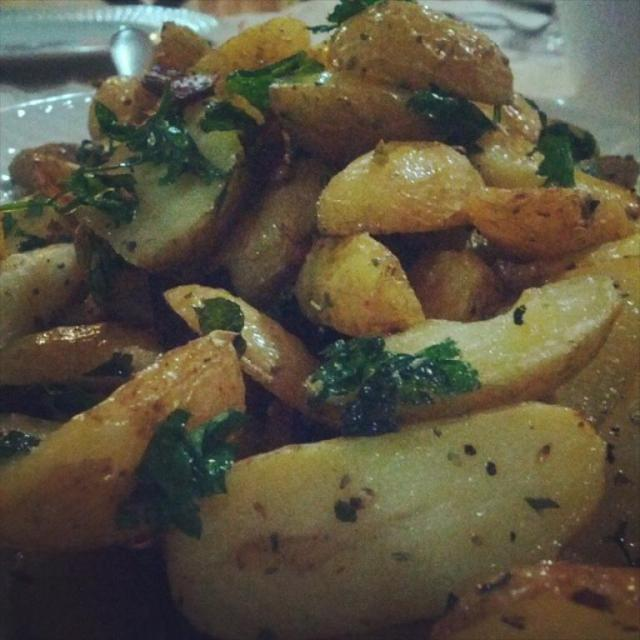Potato: (291, 227, 435, 346)
